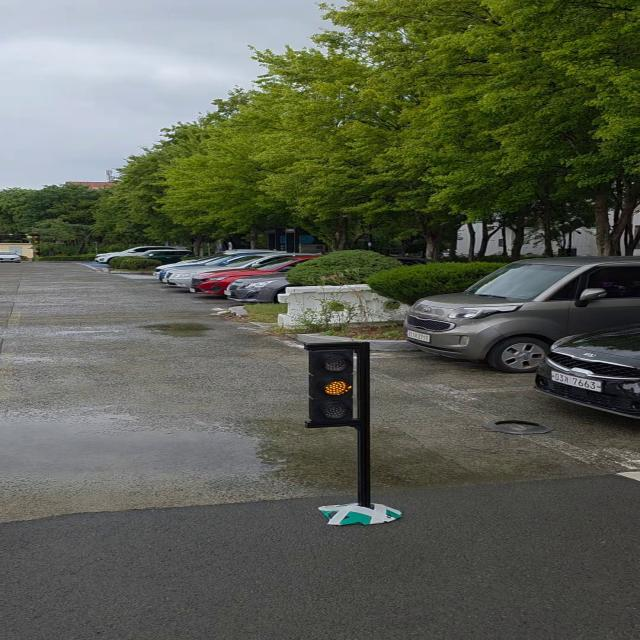yellow: (308, 345, 357, 429)
